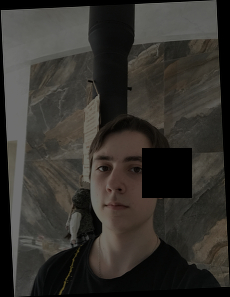without_mask: (89, 153, 161, 232)
